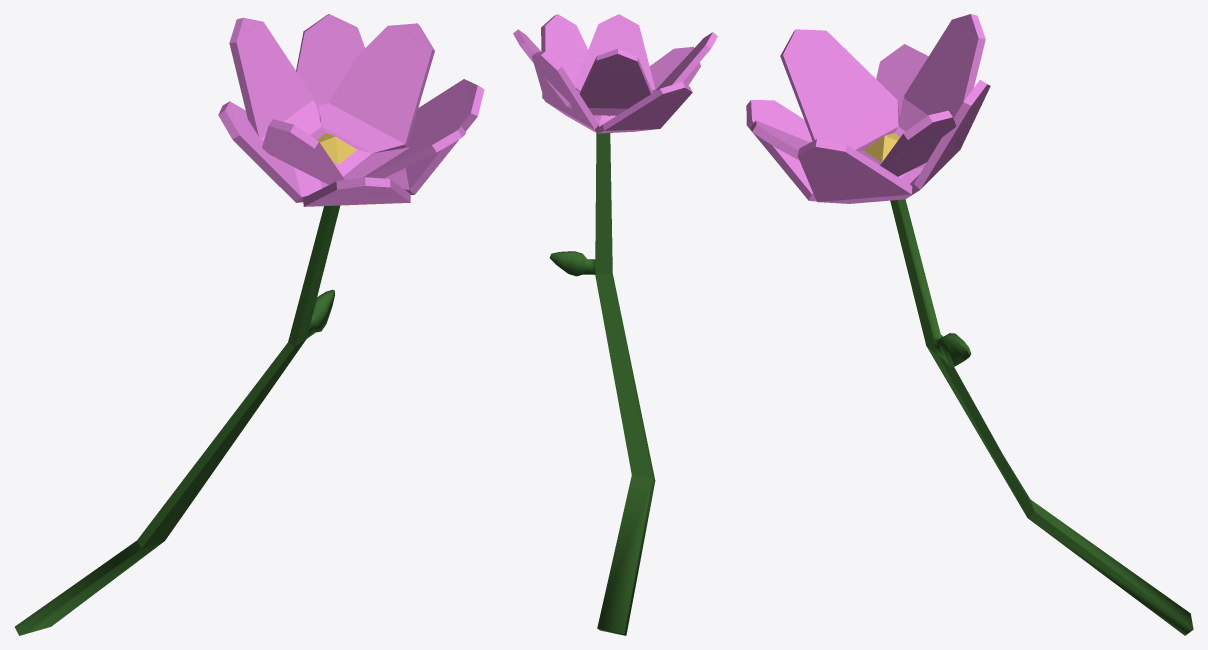
The model's file is Flower_1.fbx.
3 views of the same model, side by side, from view 1: azimuth 30°, elevation 25°; view 2: azimuth 150°, elevation 25°; view 3: azimuth 270°, elevation 25° (orthographic). The views are drawn at different scales.
Visible parts, largest first — view 1: Flowers.001; view 2: Flowers.001; view 3: Flowers.001.
Part boxes in pixels (x1,y1,x2,y2): Flowers.001: (15, 14, 484, 635); Flowers.001: (513, 14, 717, 635); Flowers.001: (746, 14, 1193, 635).
Bounding box in the file's own units: 28.79 × 64.93 × 39.7.
